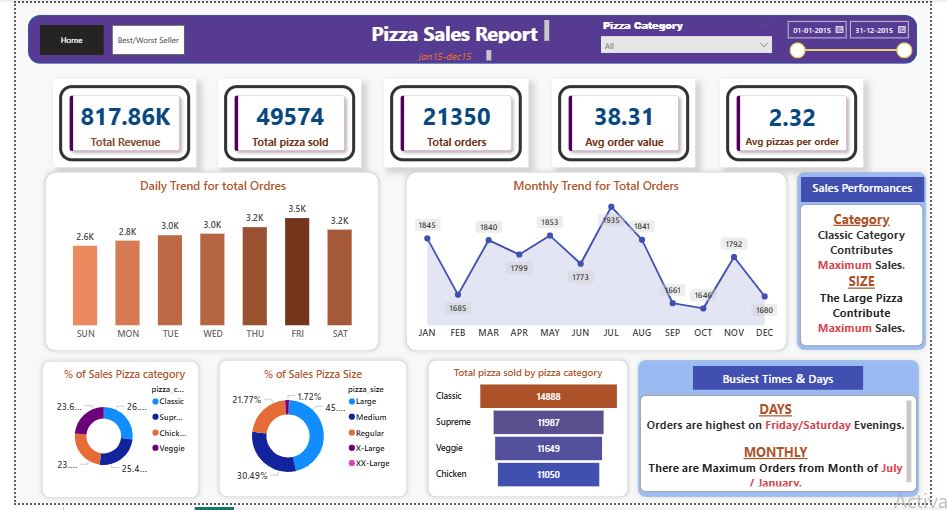

Layout of this report page (visuals, bound fields, positions):
{"tool":"powerbi","page":{"name":"Home","canvas":[1500,820],"ordinal":0},"visuals":[{"type":"cardVisual","fields":{"Data":["pizza_sales.Total Revenue"]},"box":[60,125,235,145],"z":0},{"type":"cardVisual","fields":{"Data":["pizza_sales.Total pizza sold"]},"box":[331.7,125,235,145],"z":1000},{"type":"cardVisual","fields":{"Data":["pizza_sales.Total orders","pizza_sales.Total orders"]},"box":[603.3,125,236.7,145],"z":2000},{"type":"cardVisual","fields":{"Data":["pizza_sales.Avg order value"]},"box":[878.3,125,235,145],"z":3000},{"type":"cardVisual","fields":{"Data":["pizza_sales.Avg pizzas per order"]},"box":[1155,125,235,145],"z":4000},{"type":"shape","box":[20,20,1458.3,80],"z":5000},{"type":"textbox","box":[566.7,23.3,311.7,48.3],"z":6000},{"type":"textbox","box":[631.7,71.7,153.3,28.3],"z":7000},{"type":"shape","box":[39.4,269,564.2,310],"z":8000},{"type":"columnChart","title":"Daily Trend for total Ordres","fields":{"Category":["pizza_sales.order day"],"Y":["pizza_sales.Total orders"]},"box":[60.7,285.4,524.8,277.2],"z":9000},{"type":"shape","box":[631.4,269,641.2,310],"z":10000},{"type":"areaChart","title":"Monthly Trend for Total Orders","fields":{"Category":["pizza_sales.order Month"],"Y":["pizza_sales.Total orders"]},"box":[649.4,285.4,603.5,277.2],"z":11000},{"type":"shape","box":[34.4,578.9,273.9,241.1],"z":12000},{"type":"shape","box":[324.7,577.3,324.7,241.1],"z":13000},{"type":"shape","box":[667.5,577.3,344.4,241.1],"z":14000},{"type":"donutChart","title":"% of Sales Pizza category","fields":{"Category":["pizza_sales.pizza_category"],"Y":["pizza_sales.Total Revenue"]},"box":[60.7,595.3,234.5,206.6],"z":15000},{"type":"donutChart","title":"% of Sales Pizza Size","fields":{"Y":["pizza_sales.Total Revenue"],"Category":["pizza_sales.pizza_size"]},"box":[342.8,595.3,288.6,206.6],"z":16000},{"type":"funnel","title":"Total pizza sold by pizza category","fields":{"Category":["pizza_sales.pizza_category"],"Y":["pizza_sales.Total pizza sold"]},"box":[683.9,595.3,311.6,206.6],"z":17000},{"type":"shape","box":[1011.9,577.3,477.2,241.1],"z":18000},{"type":"shape","box":[1272.6,269,228,308.3],"z":19000},{"type":"textbox","box":[1110.3,595.3,278.8,39.4],"z":20000},{"type":"textbox","box":[1023.4,642.9,454.3,159.1],"z":20001},{"type":"textbox","box":[1287.4,285.4,201.7,41],"z":20002},{"type":"textbox","box":[1285.8,329.6,201.7,232.9],"z":20003},{"type":"slicer","fields":{"Values":["pizza_sales.pizza_category","pizza_sales.pizza_category"]},"box":[949.6,19.7,300.1,80.4],"z":20004},{"type":"slicer","fields":{"Values":["pizza_sales.order_date"]},"box":[1253,19.7,224.7,80.4],"z":20005},{"type":"pageNavigator","box":[39.4,36.1,105,49.2],"z":20006},{"type":"pageNavigator","box":[157.4,36.1,119.7,49.2],"z":20007}]}

Visuals, with their boxes in screenshot pixels (x1, y1, x2, y2), scaled from the page's 1500x820 canvas onto the 947x510 screenshot:
cardVisual - pizza_sales.Total Revenue: 38:78:186:168
cardVisual - pizza_sales.Total pizza sold: 209:78:358:168
cardVisual - pizza_sales.Total orders x pizza_sales.Total orders: 381:78:530:168
cardVisual - pizza_sales.Avg order value: 555:78:703:168
cardVisual - pizza_sales.Avg pizzas per order: 729:78:878:168
shape: 13:12:933:62
textbox: 358:14:555:45
textbox: 399:45:496:62
shape: 25:167:381:360
"Daily Trend for total Ordres" columnChart: 38:178:370:350
shape: 399:167:803:360
"Monthly Trend for Total Orders" areaChart: 410:178:791:350
shape: 22:360:195:509
shape: 205:359:410:509
shape: 421:359:639:509
"% of Sales Pizza category" donutChart: 38:370:186:499
"% of Sales Pizza Size" donutChart: 216:370:399:499
"Total pizza sold by pizza category" funnel: 432:370:628:499
shape: 639:359:940:509
shape: 803:167:946:359
textbox: 701:370:877:395
textbox: 646:400:933:499
textbox: 813:178:940:203
textbox: 812:205:939:350
slicer - pizza_sales.pizza_category x pizza_sales.pizza_category: 600:12:789:62
slicer - pizza_sales.order_date: 791:12:933:62
pageNavigator: 25:22:91:53
pageNavigator: 99:22:175:53
